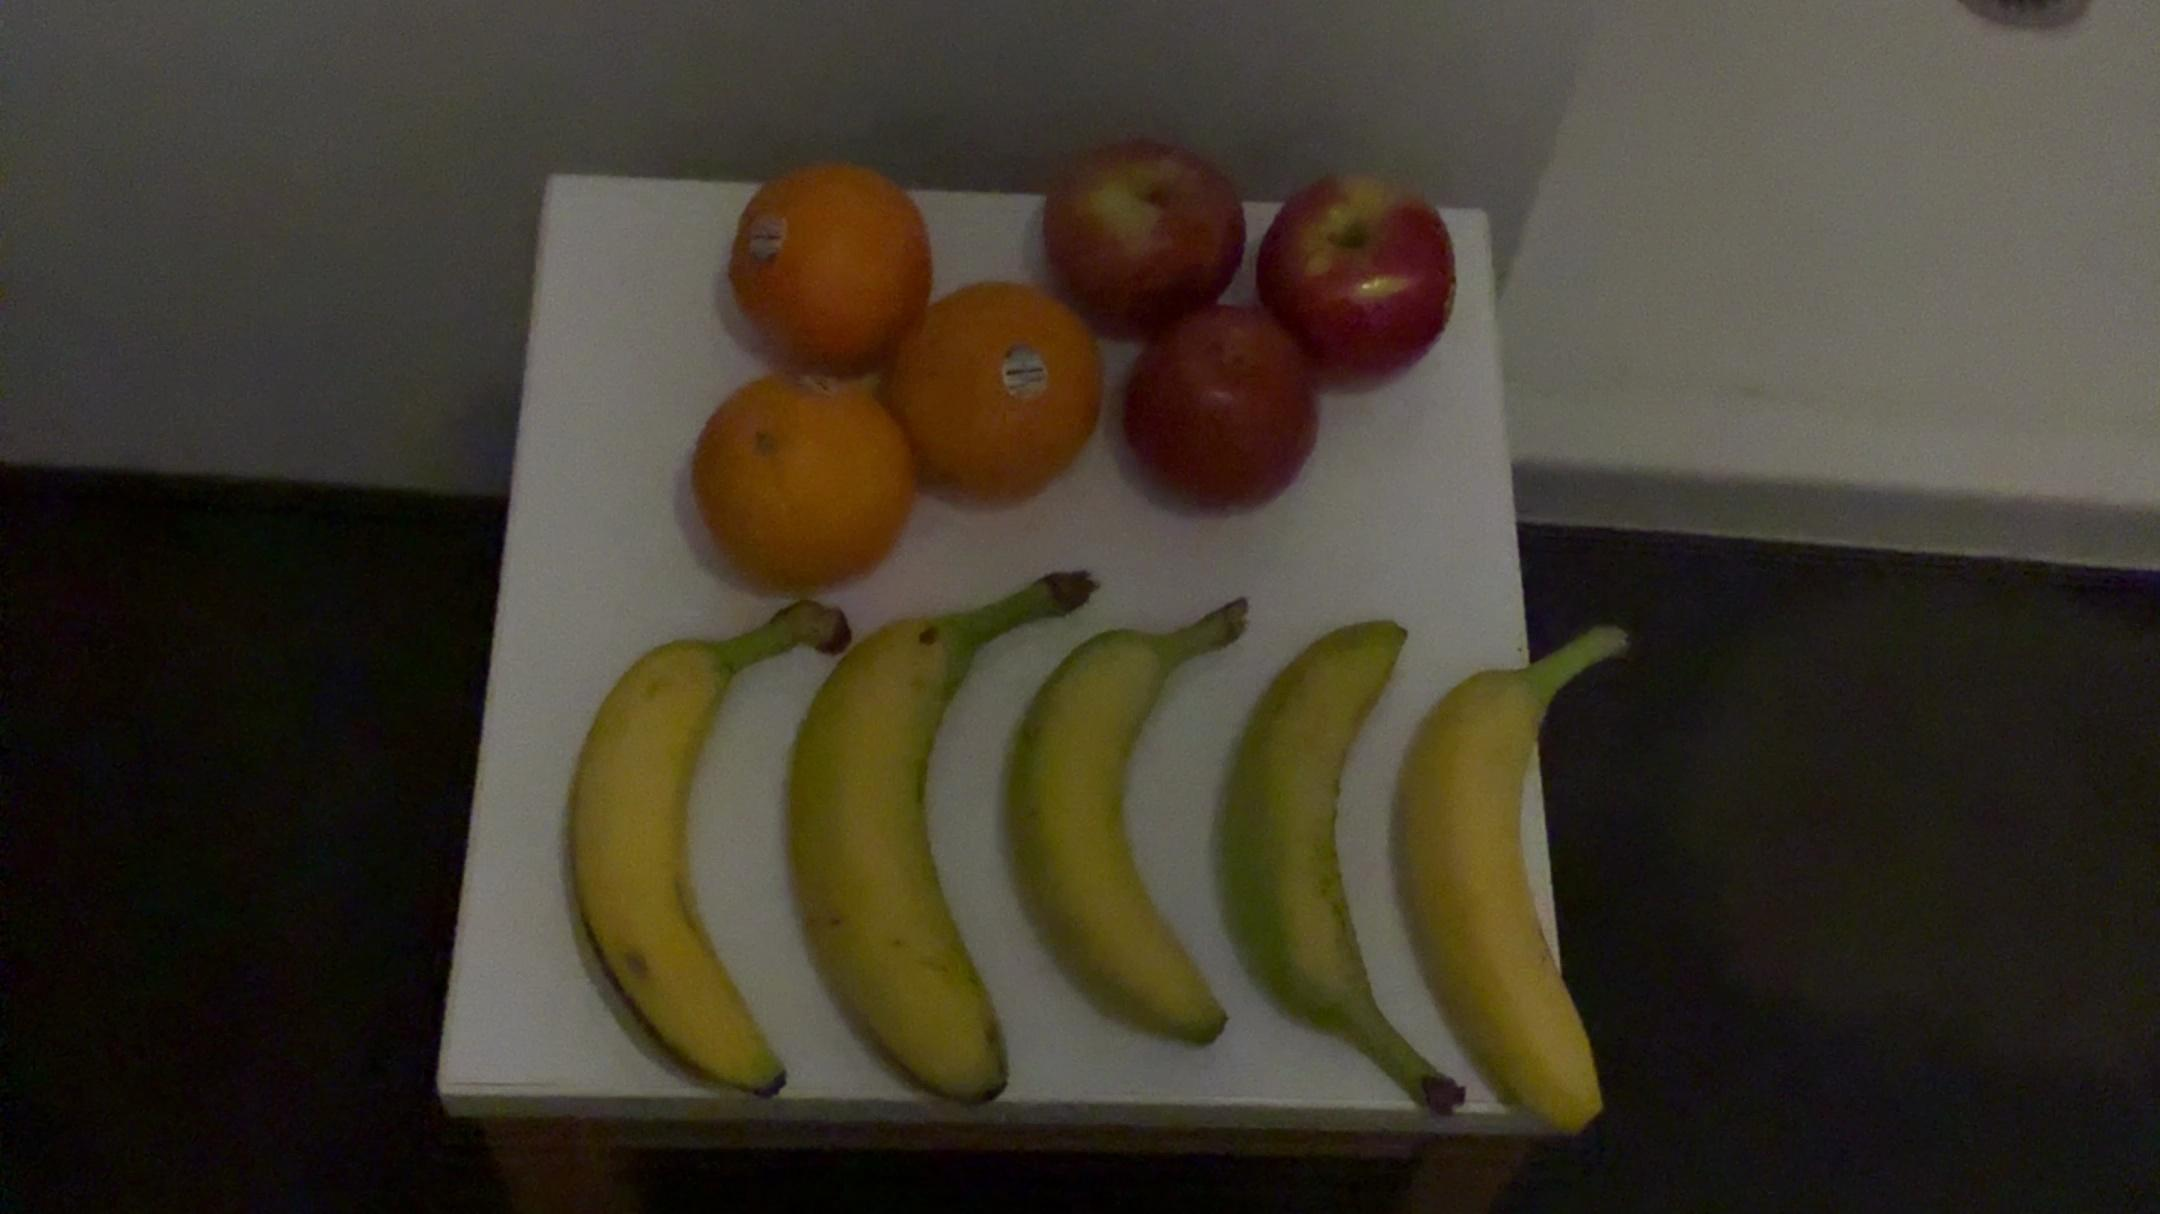apple: (1123, 303, 1332, 531), (1261, 171, 1469, 389), (1035, 128, 1245, 343)
banana: (794, 554, 1102, 1129), (549, 594, 840, 1118), (1221, 595, 1494, 1149), (1395, 601, 1650, 1171), (997, 571, 1246, 1100)
orange: (675, 364, 918, 603), (880, 278, 1110, 514), (720, 157, 939, 378)
